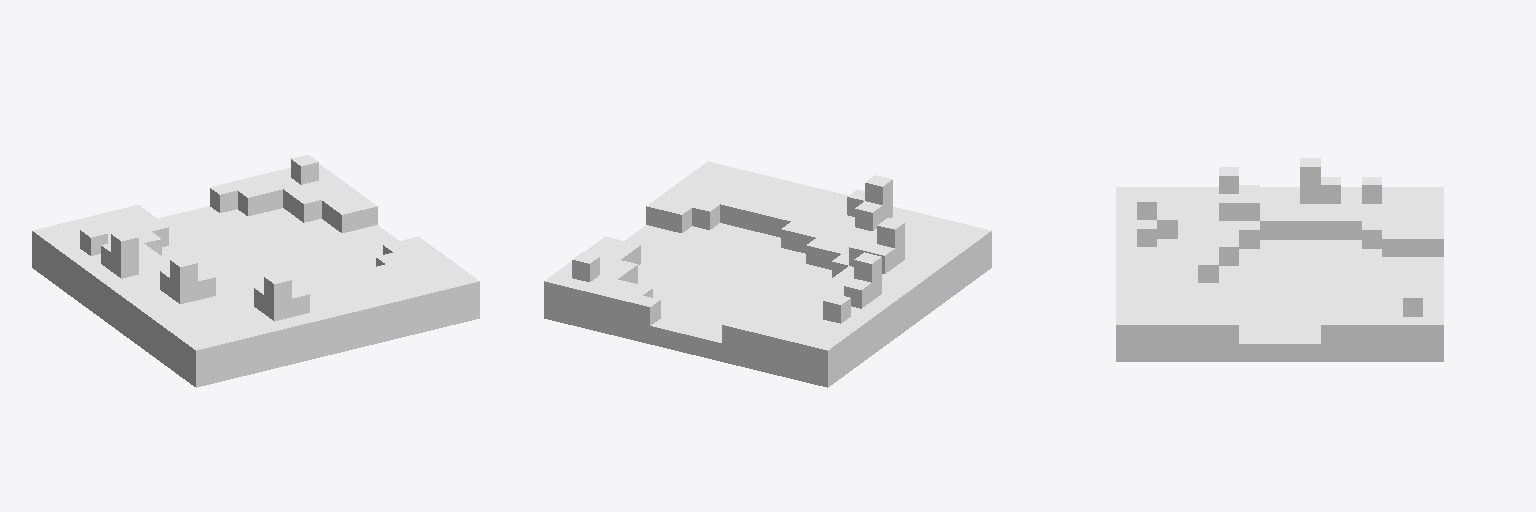
File: River_turn_1.obj
The picture shows the model from 3 angles: view 1: azimuth 30°, elevation 25°; view 2: azimuth 150°, elevation 25°; view 3: azimuth 270°, elevation 25°; orthographic projection.
Parts seen in each view (by area): view 1: object 1; view 2: object 1; view 3: object 1.
Part boxes in pixels (left/top/right/bottom): object 1: left=32, top=155, right=479, bottom=387; object 1: left=544, top=161, right=991, bottom=387; object 1: left=1116, top=158, right=1443, bottom=361.
Size of the model in its own units: 1.6 by 0.4 by 1.6.